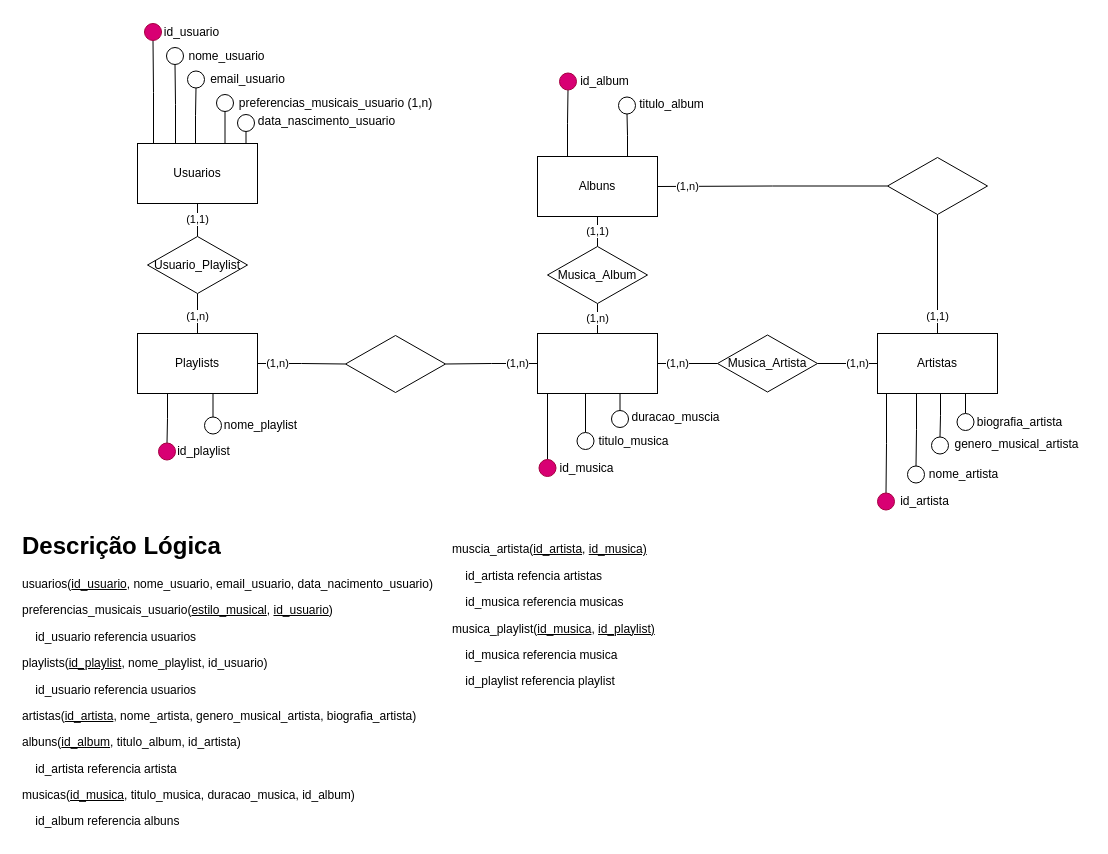
Image size: 1108x854. Some labels were removed from this diagram. The centre of each missing label's shape, as x and y in pixels:
Artista_Album: point 937,185
Musica_Playlist: point 395,363
Musicas: point 597,363
